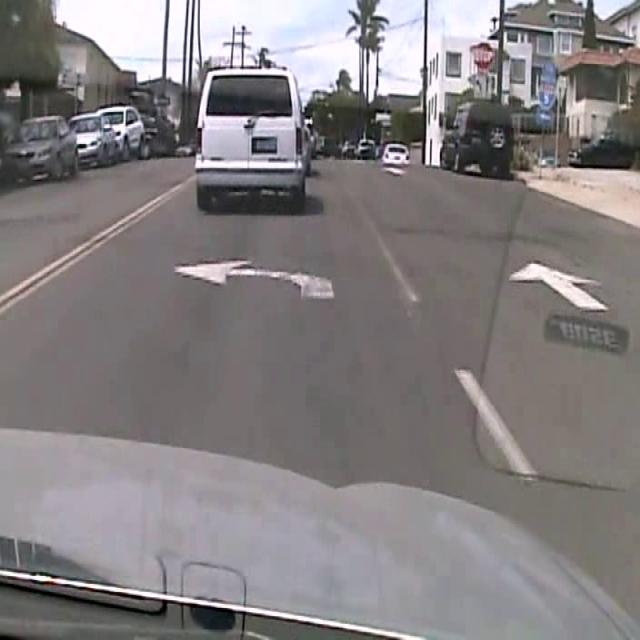stop_sign: (472, 40, 494, 71)
